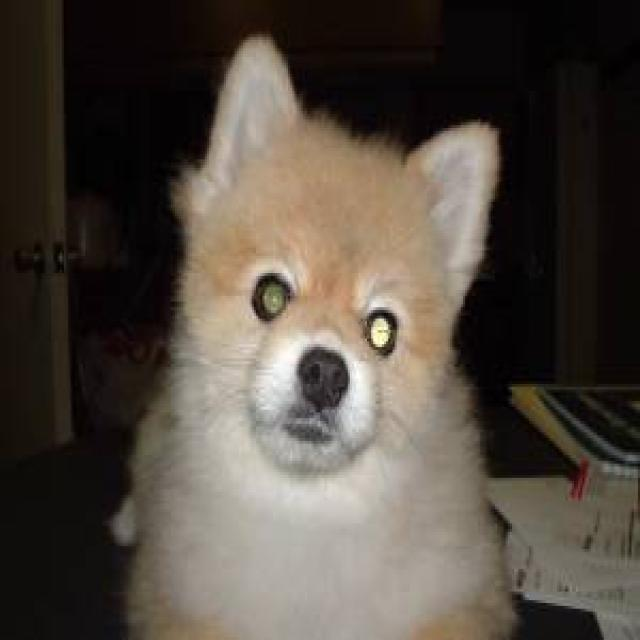dog-pomeranian: (122, 26, 512, 634)
